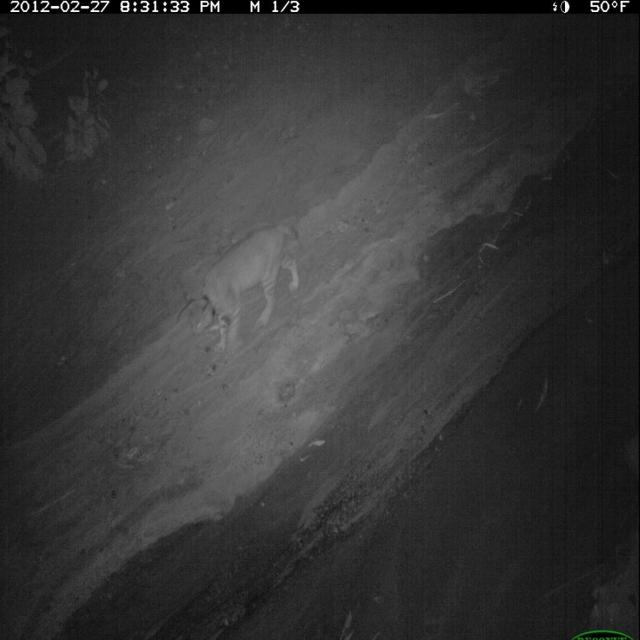bobcat: (180, 217, 304, 359)
